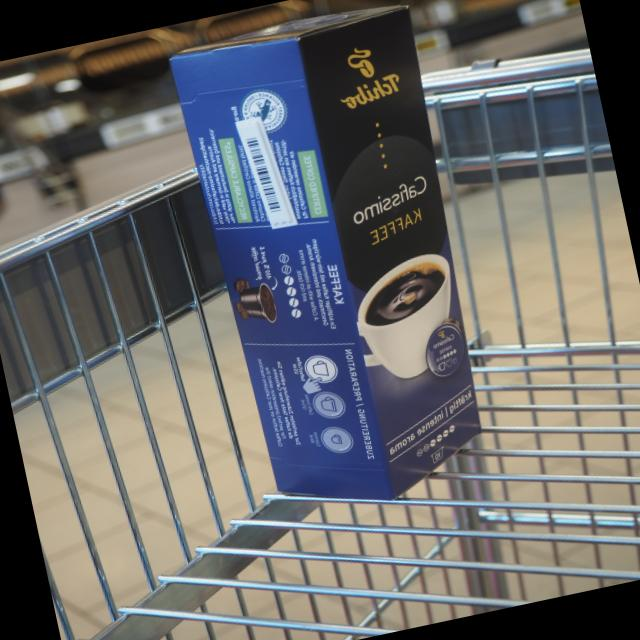Simo Kaffee Kraft: (293, 4, 488, 506)
